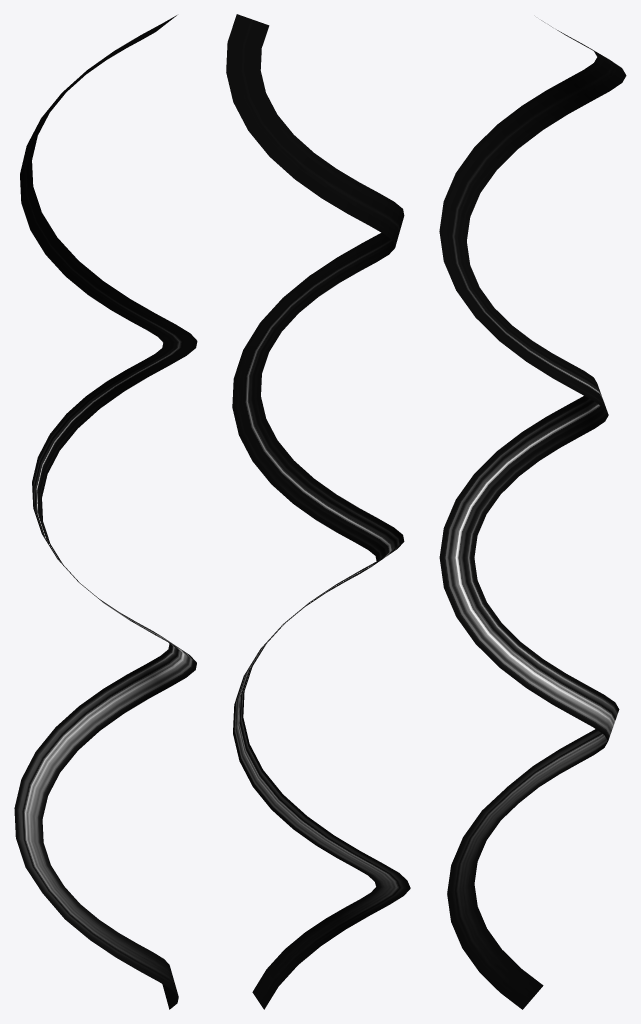
File: luoxuanxian_ly.FBX
3 views of the same model, side by side, from view 1: azimuth 30°, elevation 25°; view 2: azimuth 150°, elevation 25°; view 3: azimuth 270°, elevation 25° (orthographic).
Parts seen in each view (by area): view 1: Helix001; view 2: Helix001; view 3: Helix001.
Part boxes in pixels (x1=…): Helix001: x1=14, y1=15, x2=197, y2=1009; Helix001: x1=226, y1=14, x2=410, y2=1009; Helix001: x1=439, y1=20, x2=626, y2=1009.
Bounding box in the file's own units: 31.88 × 190 × 32.26.
